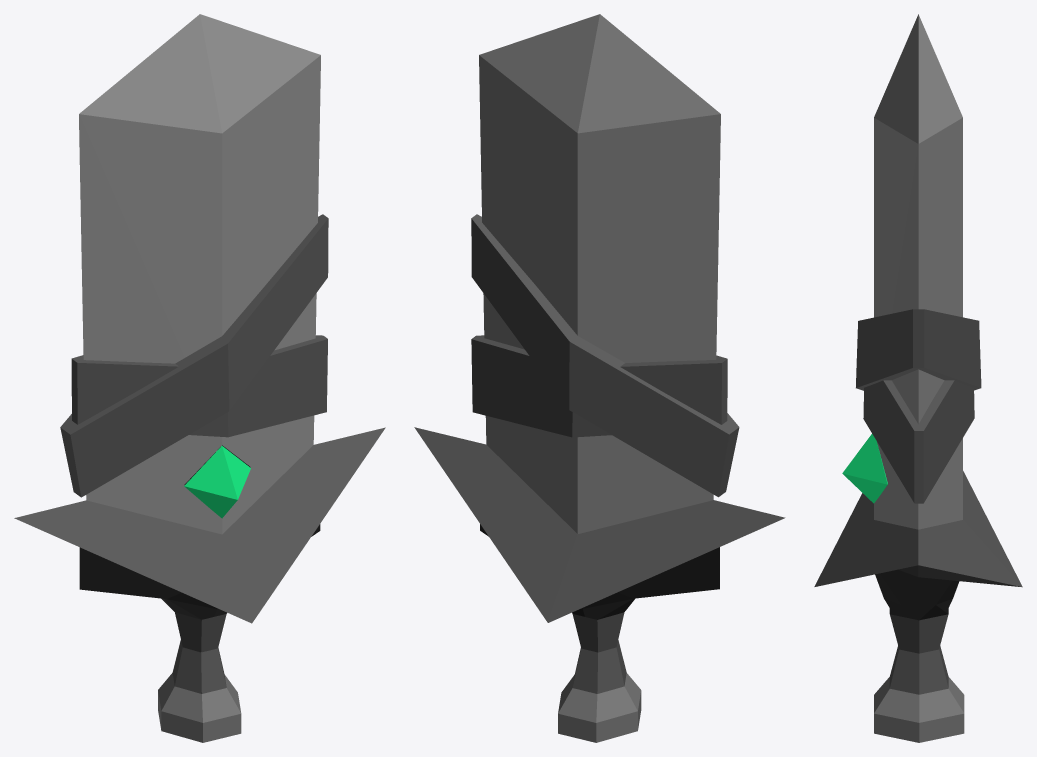
File: Sword_Model.fbx
3 renders of one model, left to right at view 1: azimuth 30°, elevation 25°; view 2: azimuth 150°, elevation 25°; view 3: azimuth 270°, elevation 25°, orthographic.
Parts seen in each view (by area): view 1: Sword, Talisman; view 2: Sword; view 3: Sword, Talisman.
Boxes of the visible parts, x1=… form: Sword: x1=14, y1=14, x2=385, y2=742; Talisman: x1=184, y1=446, x2=250, y2=518; Sword: x1=414, y1=14, x2=785, y2=742; Sword: x1=814, y1=14, x2=1022, y2=742; Talisman: x1=842, y1=434, x2=887, y2=503.
Bounding box in the file's own units: 110 × 201 × 53.44.
